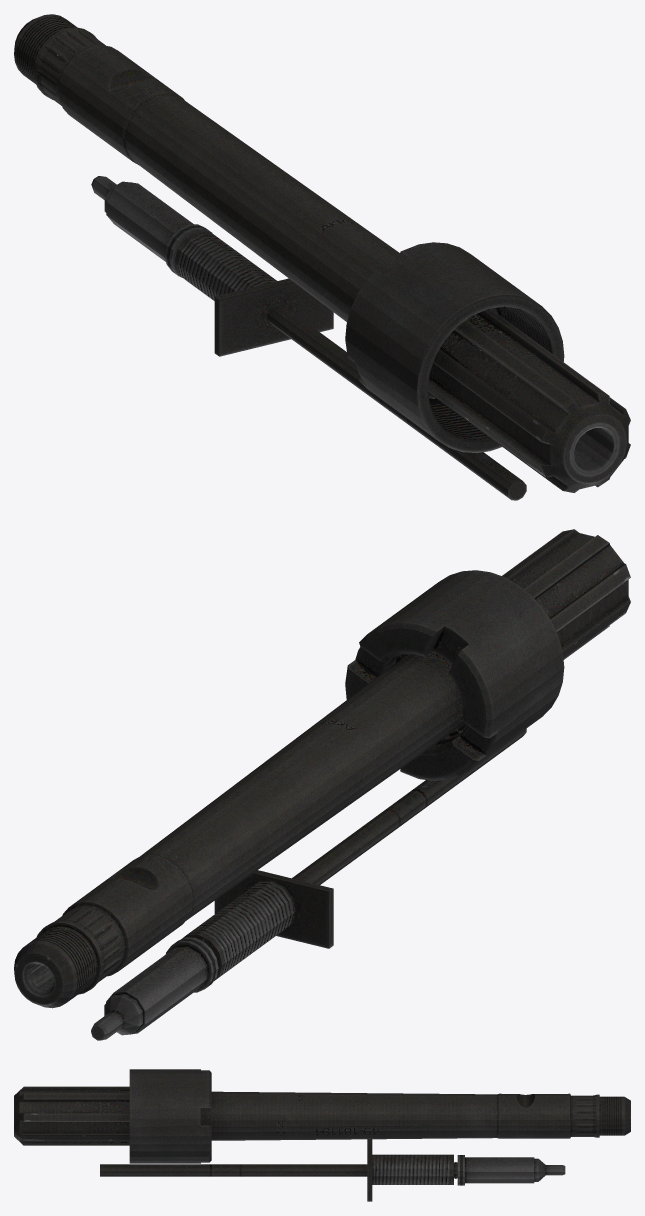
The picture shows the model from 3 angles, top to bottom: view 1: azimuth 30°, elevation 25°; view 2: azimuth 150°, elevation 25°; view 3: azimuth 270°, elevation 25°; orthographic projection. The views are drawn at different scales.
Visible parts, largest first — view 1: TW_622b379bf9cfc87d675d2de5_PZ_Import; view 2: TW_622b379bf9cfc87d675d2de5_PZ_Import; view 3: TW_622b379bf9cfc87d675d2de5_PZ_Import.
Boxes of the visible parts, box(x1,y1,x2,y2) form: TW_622b379bf9cfc87d675d2de5_PZ_Import: box(14, 14, 630, 500); TW_622b379bf9cfc87d675d2de5_PZ_Import: box(14, 529, 630, 1040); TW_622b379bf9cfc87d675d2de5_PZ_Import: box(14, 1069, 630, 1201).
Size of the model in its own units: 0.0202 by 0.1318 by 0.0265.
1 material, 1 textured.
